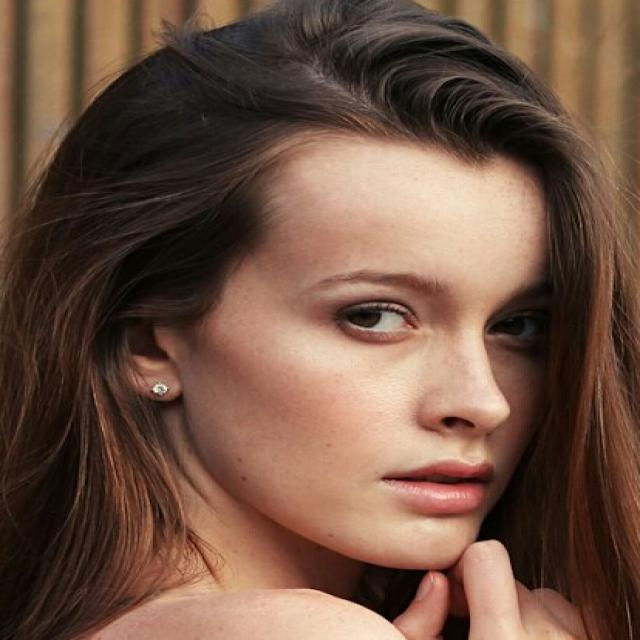front: (296, 260, 568, 567)
